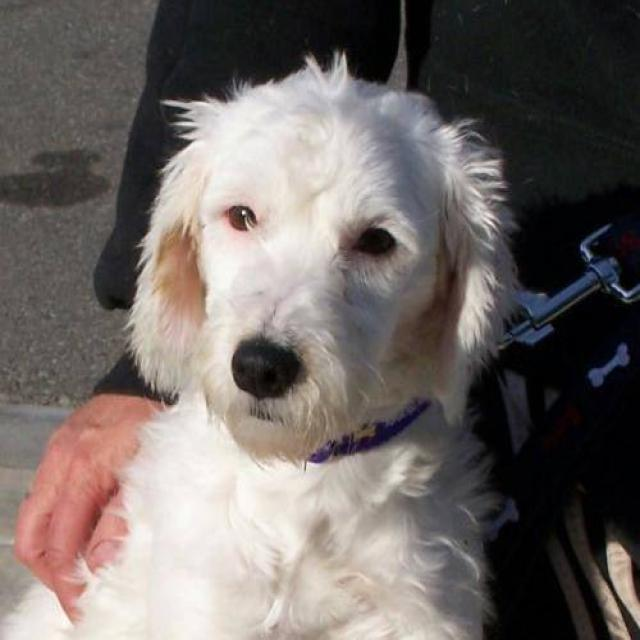dog: (0, 48, 521, 639)
